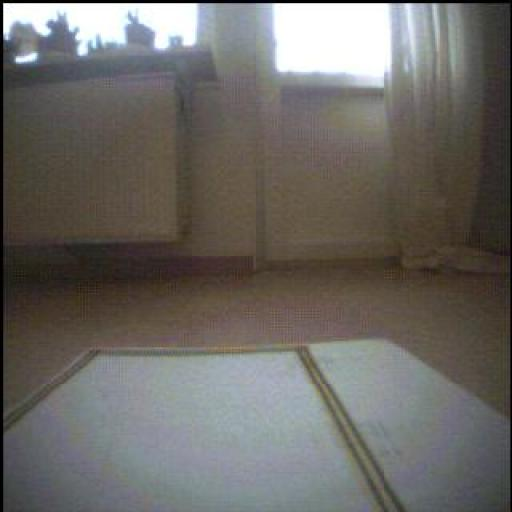Pad: (4, 342, 510, 512), (310, 342, 511, 512)
